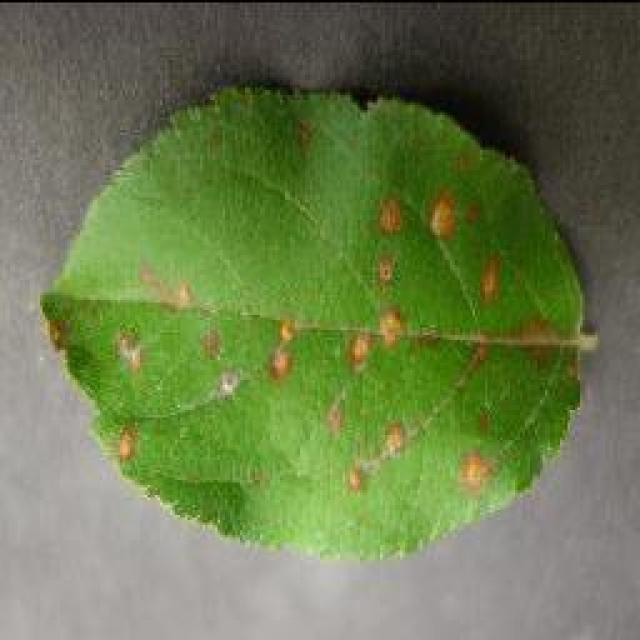apple rust disease: (38, 80, 598, 562)
